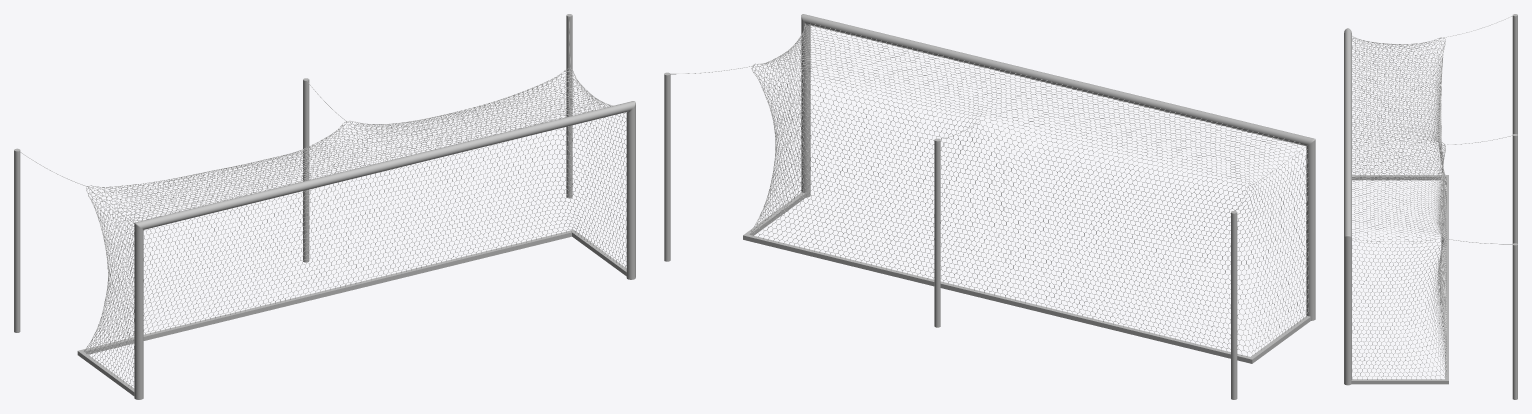
Rendered from football_goal.glb.
3 views of the same model, side by side, from view 1: azimuth 30°, elevation 25°; view 2: azimuth 150°, elevation 25°; view 3: azimuth 270°, elevation 25° (orthographic). The views are drawn at different scales.
Parts seen in each view (by area): view 1: NGon002, Rectangle001, Shape001_post_0, Cylinder003, Cylinder001, Cylinder002; view 2: NGon002, Rectangle001, Shape001_post_0, Cylinder002, Cylinder001, Cylinder003; view 3: NGon002, Rectangle001, Shape001_post_0, Cylinder001, Cylinder003, Cylinder002.
Boxes of the visible parts, box(x1,y1,x2,y2) form: NGon002: box(83, 68, 626, 388); Rectangle001: box(134, 101, 635, 399); Shape001_post_0: box(77, 230, 626, 395); Cylinder003: box(14, 148, 20, 332); Cylinder001: box(566, 14, 572, 198); Cylinder002: box(303, 78, 309, 262); NGon002: box(749, 23, 1308, 356); Rectangle001: box(801, 14, 1315, 320); Shape001_post_0: box(743, 192, 1310, 363); Cylinder002: box(934, 138, 940, 327); Cylinder001: box(664, 72, 670, 261); Cylinder003: box(1231, 211, 1237, 399); NGon002: box(1352, 36, 1446, 379); Rectangle001: box(1344, 28, 1351, 385); Shape001_post_0: box(1351, 175, 1448, 384); Cylinder001: box(1512, 243, 1517, 399); Cylinder003: box(1512, 14, 1517, 134); Cylinder002: box(1512, 134, 1517, 243).
Bounding box in the file's own units: 8.29 × 2.59 × 2.63.
2 materials, 1 textured.
